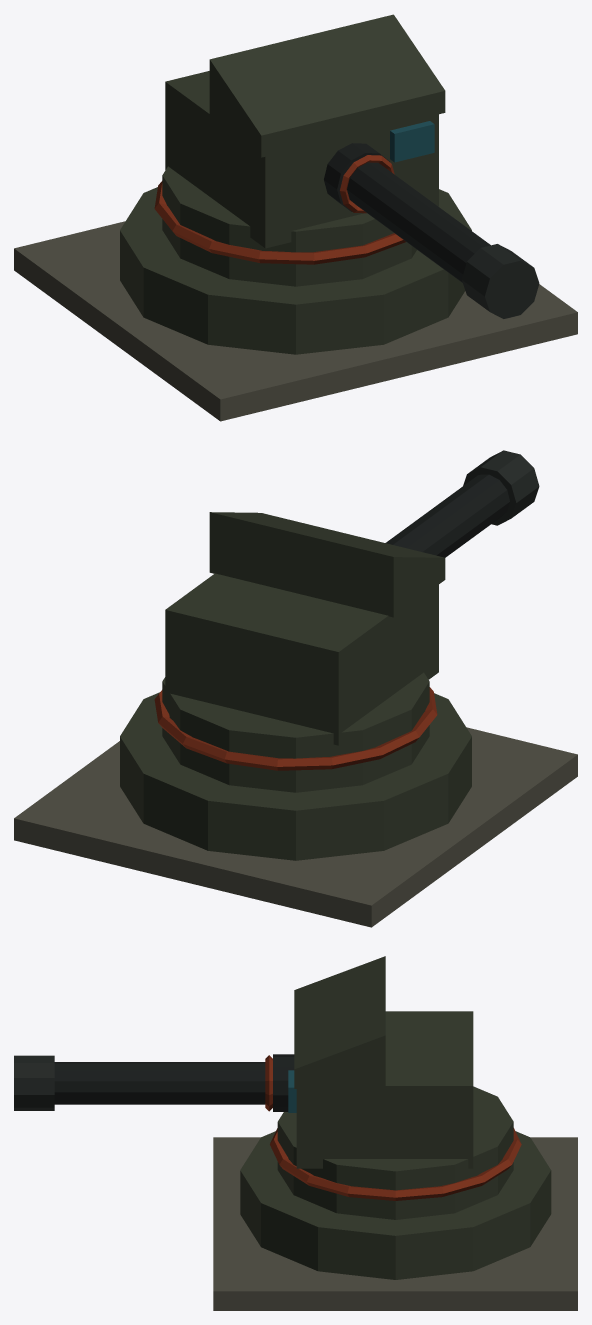
The model's file is Bastion_Turret_Articulated.glb.
The picture shows the model from 3 angles, top to bottom: view 1: azimuth 30°, elevation 25°; view 2: azimuth 150°, elevation 25°; view 3: azimuth 270°, elevation 25°; orthographic projection. The views are drawn at different scales.
Parts seen in each view (by area): view 1: Base, WeaponYaw, WeaponPitch; view 2: Base, WeaponYaw, WeaponPitch; view 3: Base, WeaponYaw, WeaponPitch.
Part boxes in pixels (x1,y1,x2,y2): Base: (14,166,577,421); WeaponYaw: (165,14,445,248); WeaponPitch: (324,143,539,318); Base: (14,672,577,927); WeaponYaw: (165,512,445,745); WeaponPitch: (385,450,539,557); Base: (213,1086,577,1310); WeaponYaw: (288,956,473,1168); WeaponPitch: (14,1054,294,1111).
Bounding box in the file's own units: 3.4 × 2.45 × 5.26.
Materials: 1 (1 with a texture image).
